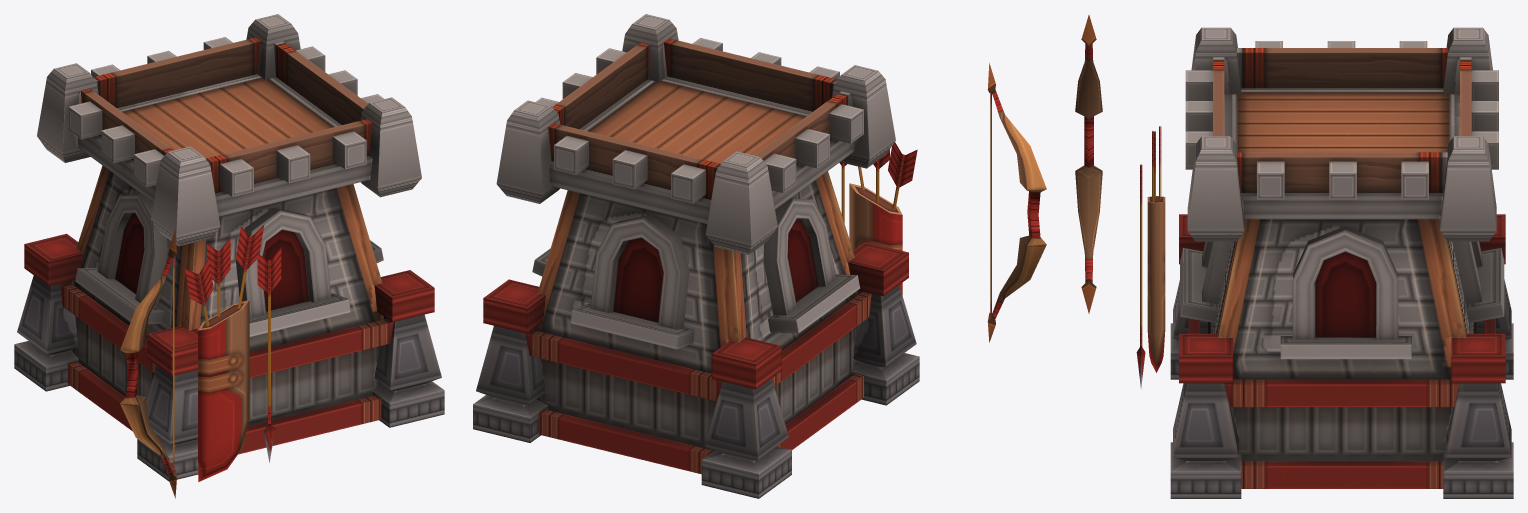
File: ArcherTower_Level3_F.FBX
3 renders of one model, left to right at view 1: azimuth 30°, elevation 25°; view 2: azimuth 150°, elevation 25°; view 3: azimuth 270°, elevation 25°, orthographic. The views are drawn at different scales.
Visible parts, largest first — view 1: ArcherTower_Level006, ArcherTower_Quiver001, ArcherTower_Bow001, ArcherTower_Level3_F; view 2: ArcherTower_Level006, ArcherTower_Bow001, ArcherTower_Quiver001; view 3: ArcherTower_Level006, ArcherTower_Bow001, ArcherTower_Quiver001, ArcherTower_Level3_F.
Part boxes in pixels (<box>): ArcherTower_Level006: <box>14,14,444,481</box>; ArcherTower_Quiver001: <box>185,225,264,481</box>; ArcherTower_Bow001: <box>120,228,176,498</box>; ArcherTower_Level3_F: <box>257,247,281,462</box>; ArcherTower_Level006: <box>473,14,919,498</box>; ArcherTower_Bow001: <box>987,63,1046,342</box>; ArcherTower_Quiver001: <box>849,142,917,295</box>; ArcherTower_Level006: <box>1170,27,1513,498</box>; ArcherTower_Bow001: <box>1075,15,1102,313</box>; ArcherTower_Quiver001: <box>1147,126,1165,372</box>; ArcherTower_Level3_F: <box>1136,164,1145,388</box>.
Bounding box in the file's own units: 61.18 × 49.32 × 58.
